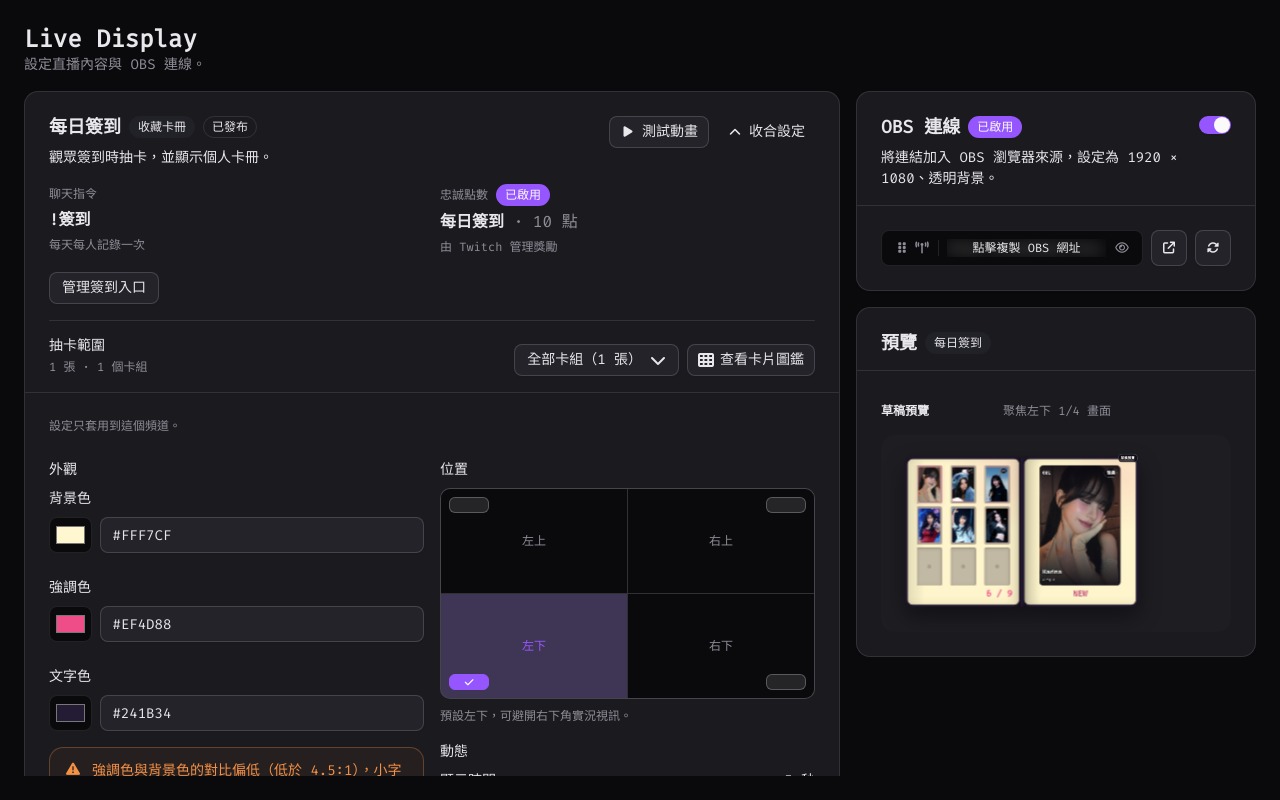
Scenario: CommunityOverlaySettings › warns when small accent text falls below 4.5:1 against the surface
Step 1. Replace the text in the field labelled "背景色" with "#FFFFFF" → coordinates (262, 535), box left=100, top=517, right=424, bottom=553
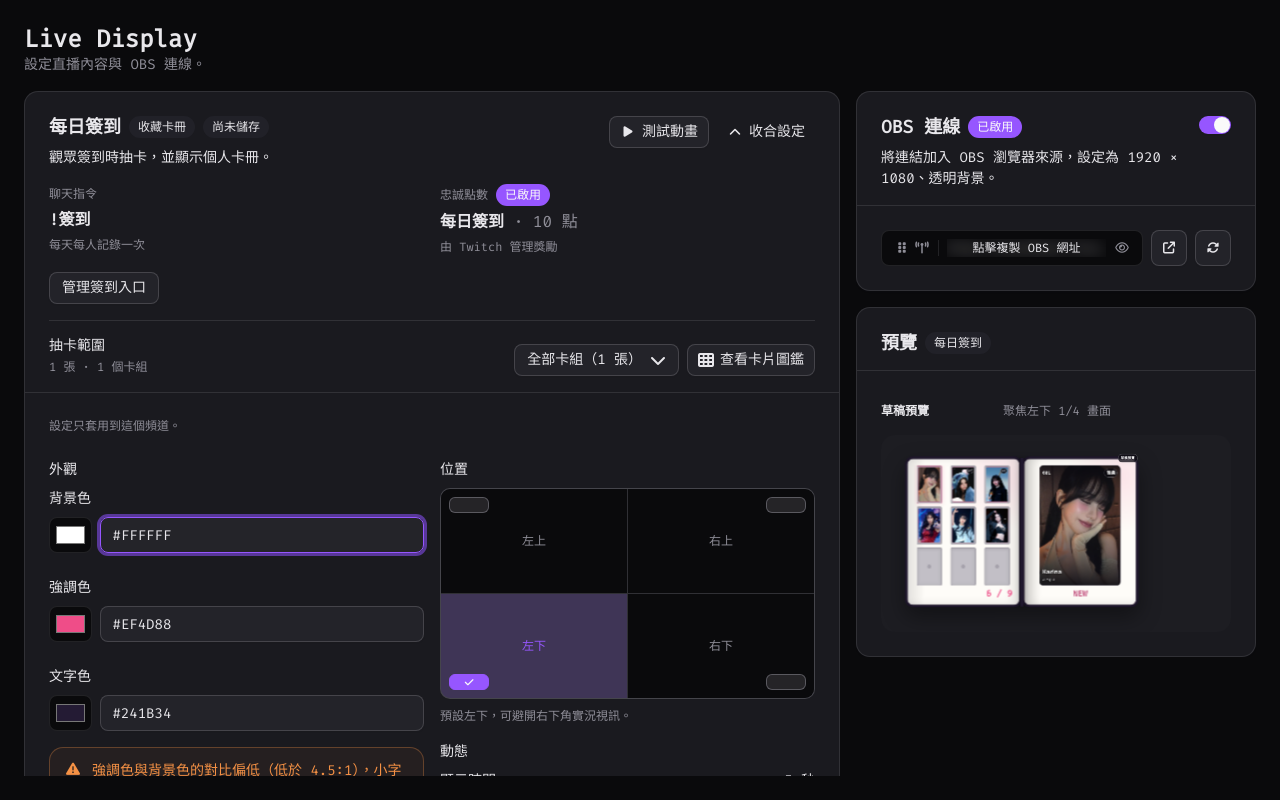
Step 2. Replace the text in the field labelled "強調色" with "#777777" → coordinates (262, 624), box left=100, top=606, right=424, bottom=642
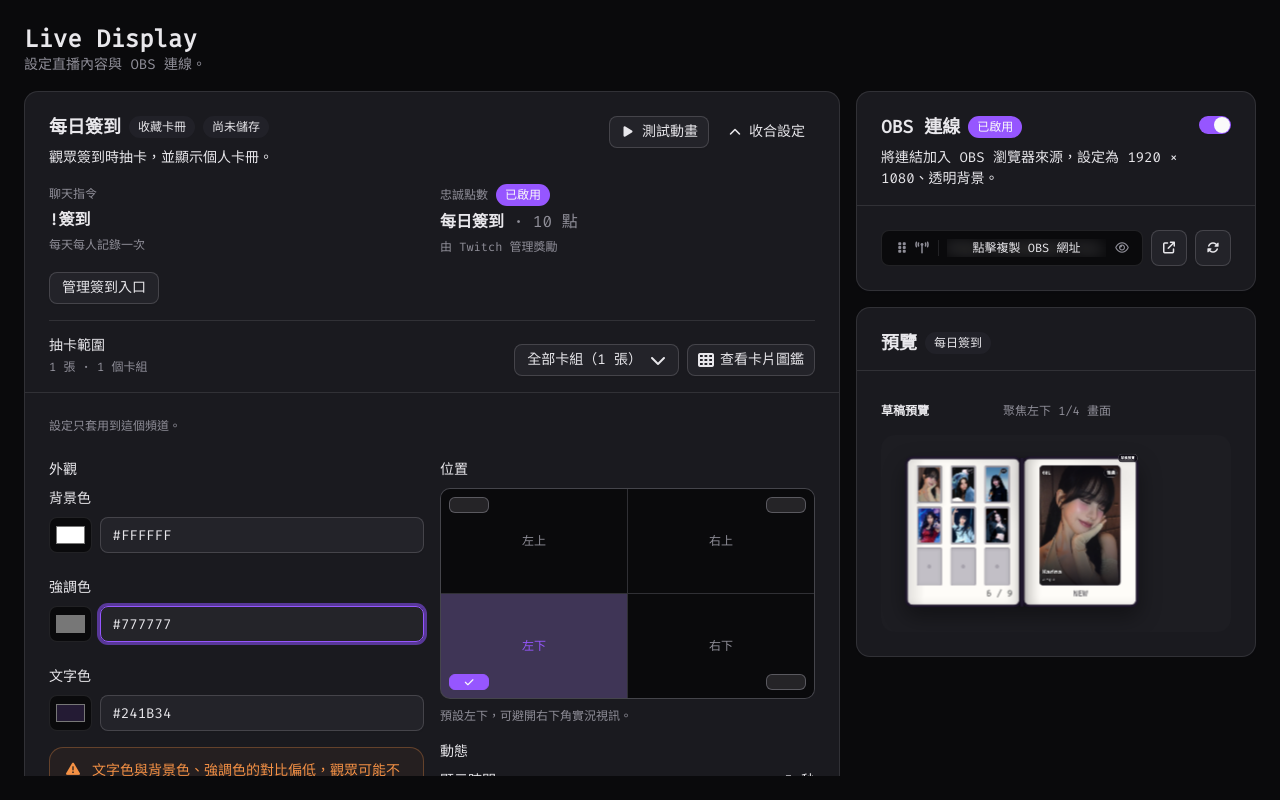
Step 3. Replace the text in the field labelled "文字色" with "#000000" → coordinates (262, 713), box left=100, top=695, right=424, bottom=731
(page scrolled)
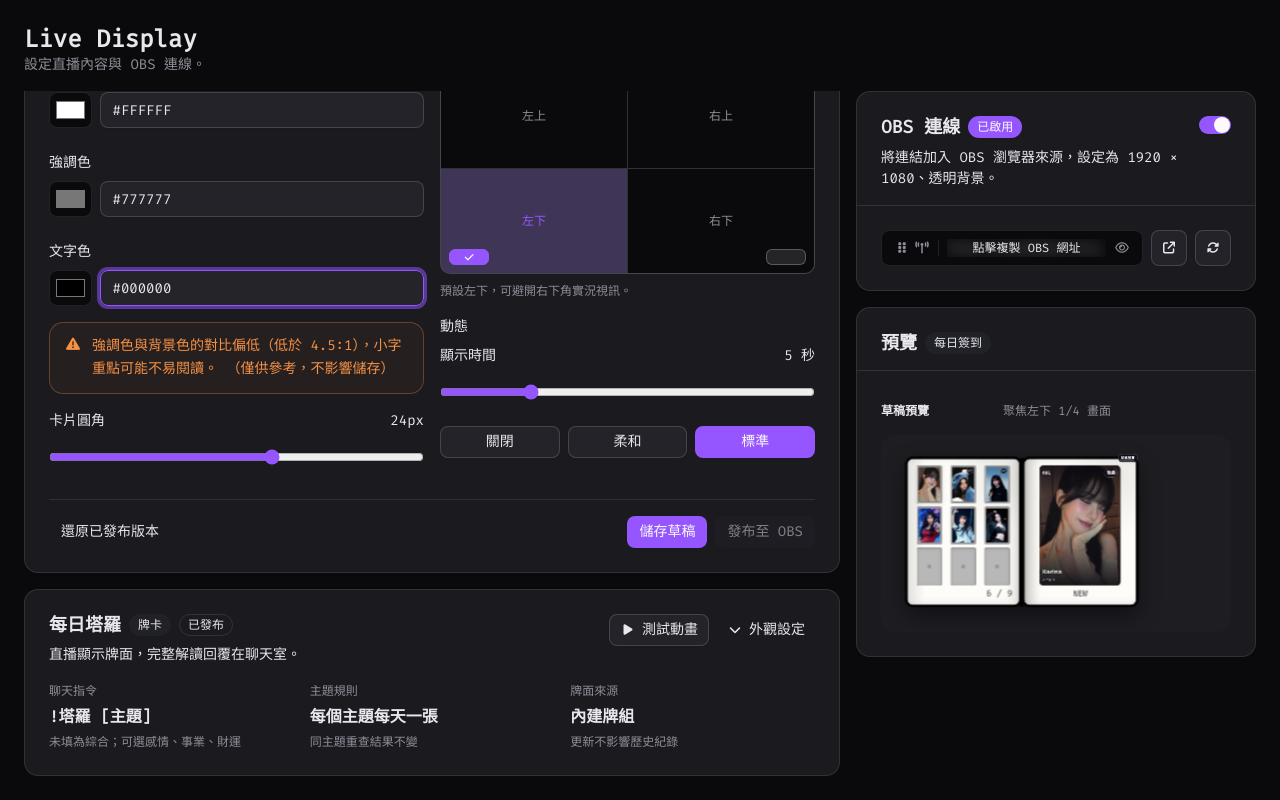
expect the text "強調色與背景色的對比偏低（低於 4.5:1），小字重點可能不易閱讀。 （僅供參考，不影響儲存）" is shown: met, box left=92, top=335, right=407, bottom=380
expect the button "儲存草稿" is enabled: met, box left=627, top=516, right=707, bottom=548
